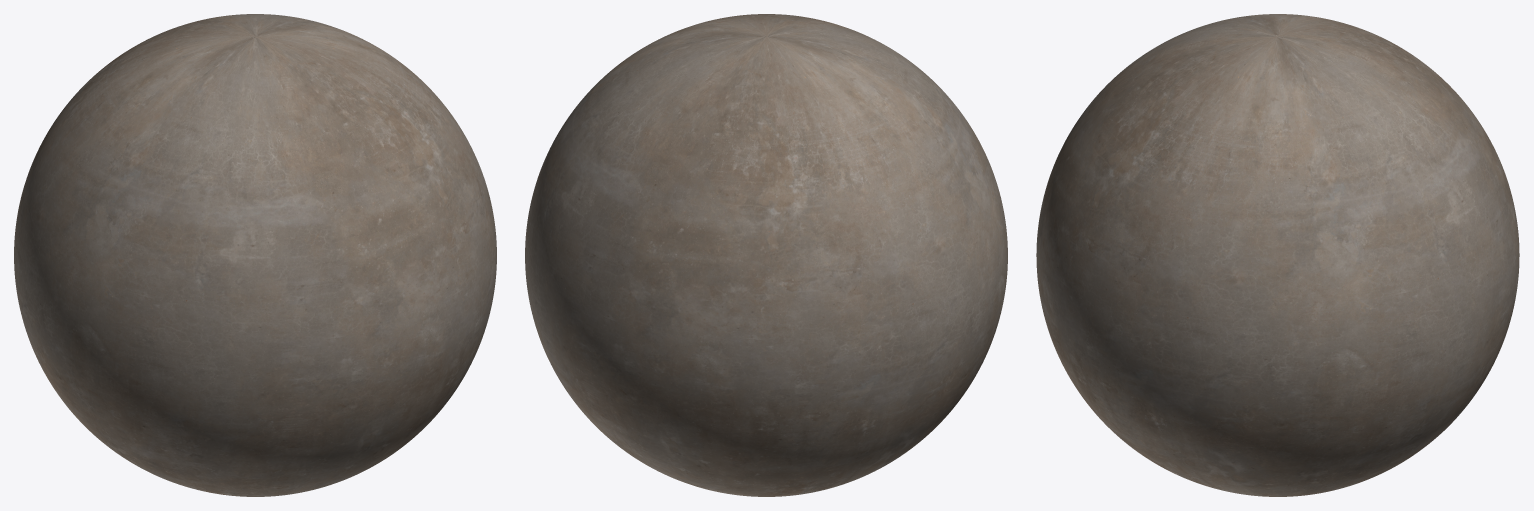
File: plastered_wall_03_2k.gltf
3 views of the same model, side by side, from view 1: azimuth 30°, elevation 25°; view 2: azimuth 150°, elevation 25°; view 3: azimuth 270°, elevation 25° (orthographic).
Parts seen in each view (by area): view 1: sphere_gltf; view 2: sphere_gltf; view 3: sphere_gltf.
Boxes of the visible parts, x1,y1,x2,y2 form: sphere_gltf: [14, 14, 496, 496]; sphere_gltf: [525, 14, 1007, 496]; sphere_gltf: [1036, 14, 1519, 496].
Size of the model in its own units: 4.02 by 4.02 by 4.02.
Materials: 1 (1 with a texture image).
